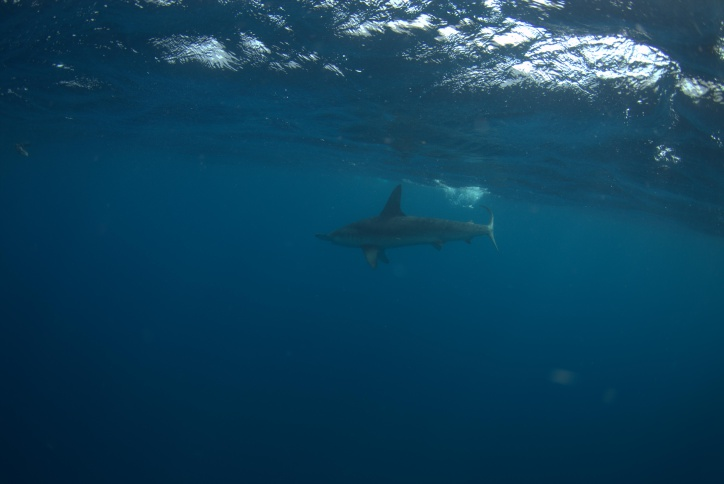Hammer: (311, 179, 531, 287)
